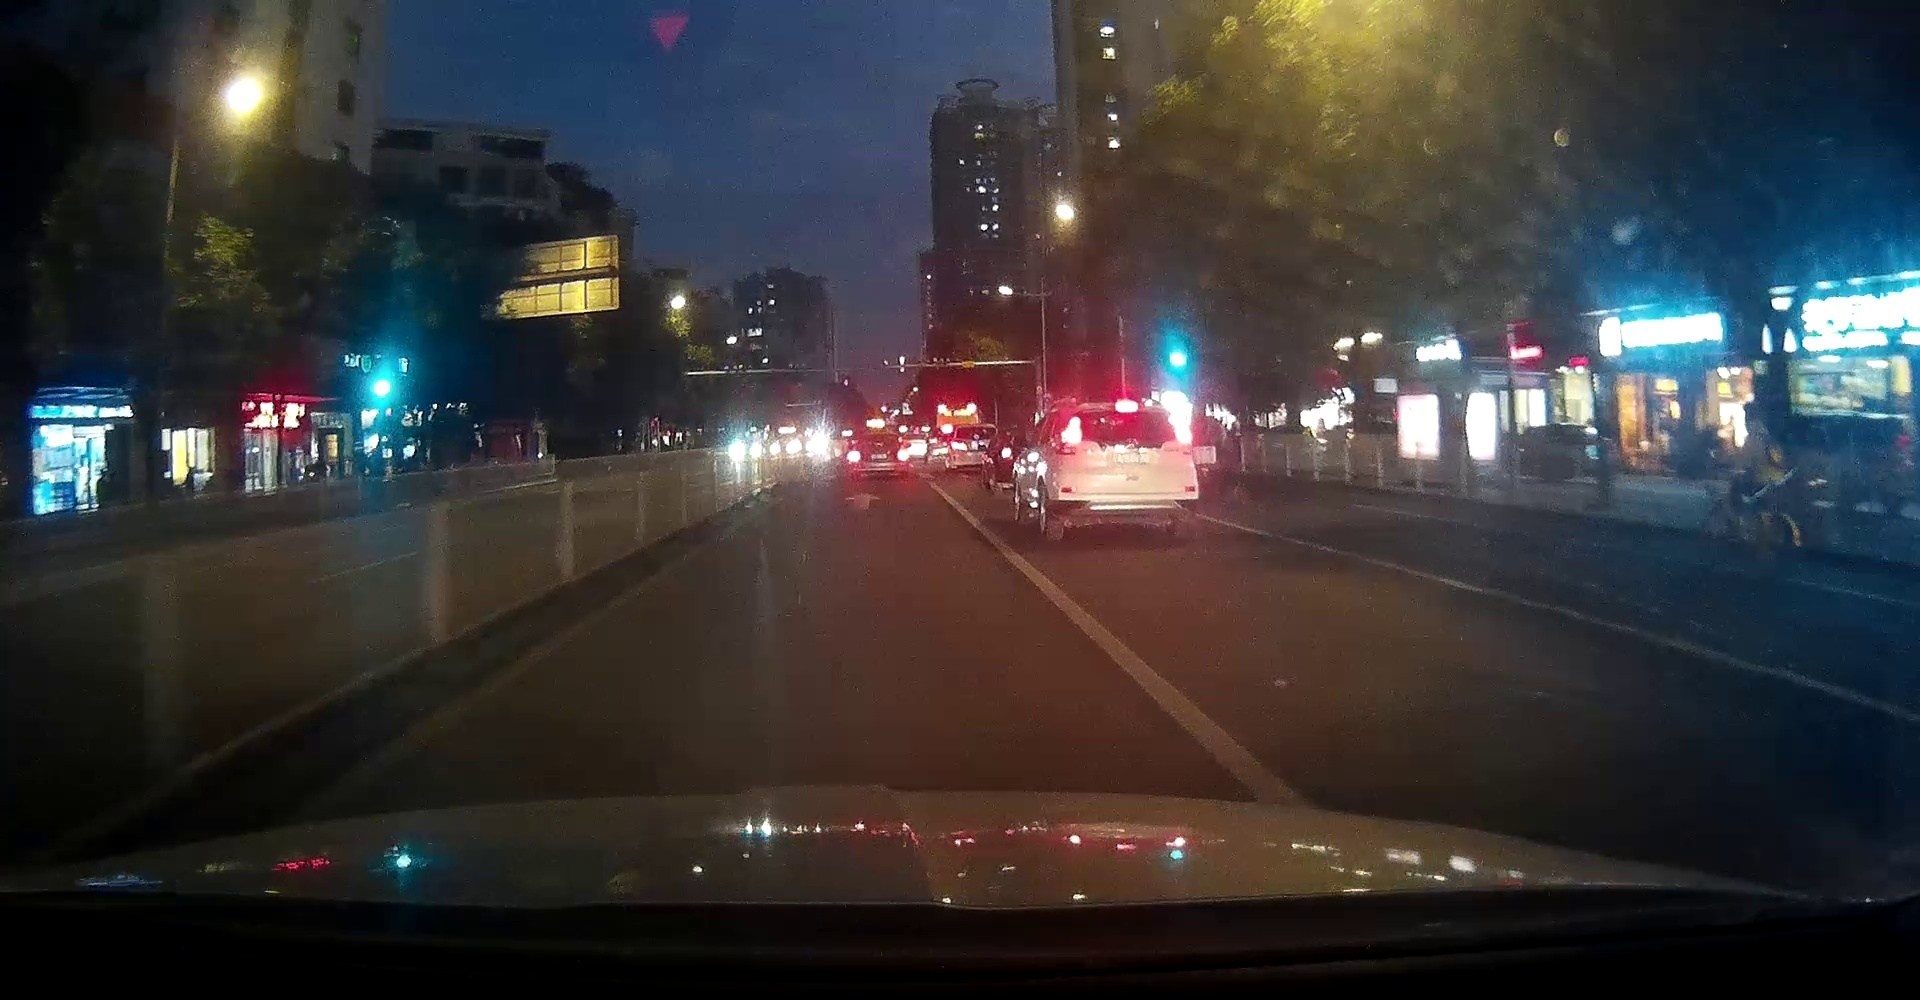L_light: (1057, 418, 1078, 456)
R_light: (1176, 421, 1192, 452)
T_light: (1116, 404, 1138, 412)
night-brake: (1049, 396, 1200, 538)
